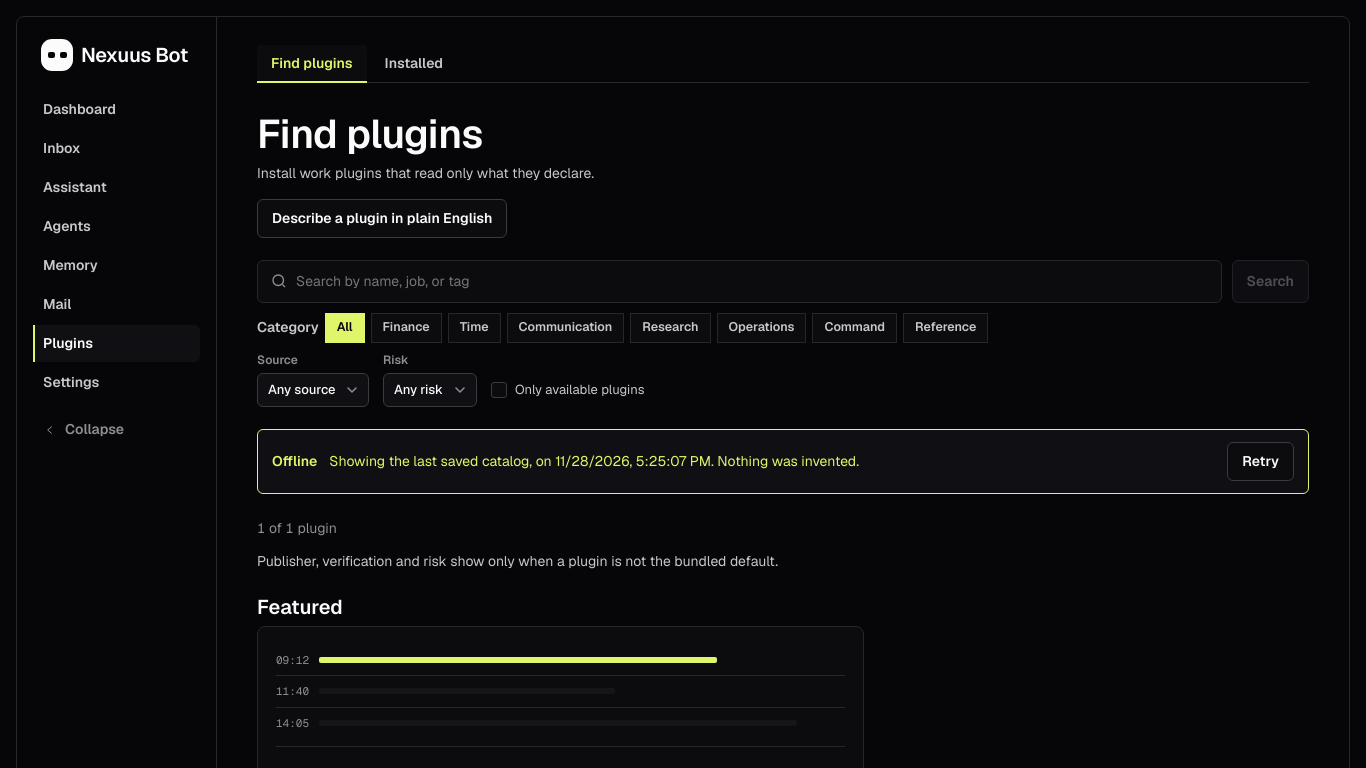
Test case: the marketplace catalog surface › serves the last successful catalog offline, with a banner and a retry
The width and height of the screenshot is (1366, 768).
Expected: the text "Offline" is shown, [272,451,317,472]
Expected: the text "Showing the last saved catalog" is shown, [329,452,536,470]
Click the button "Retry" at coordinates (1261, 461), box [1227,442,1294,481]
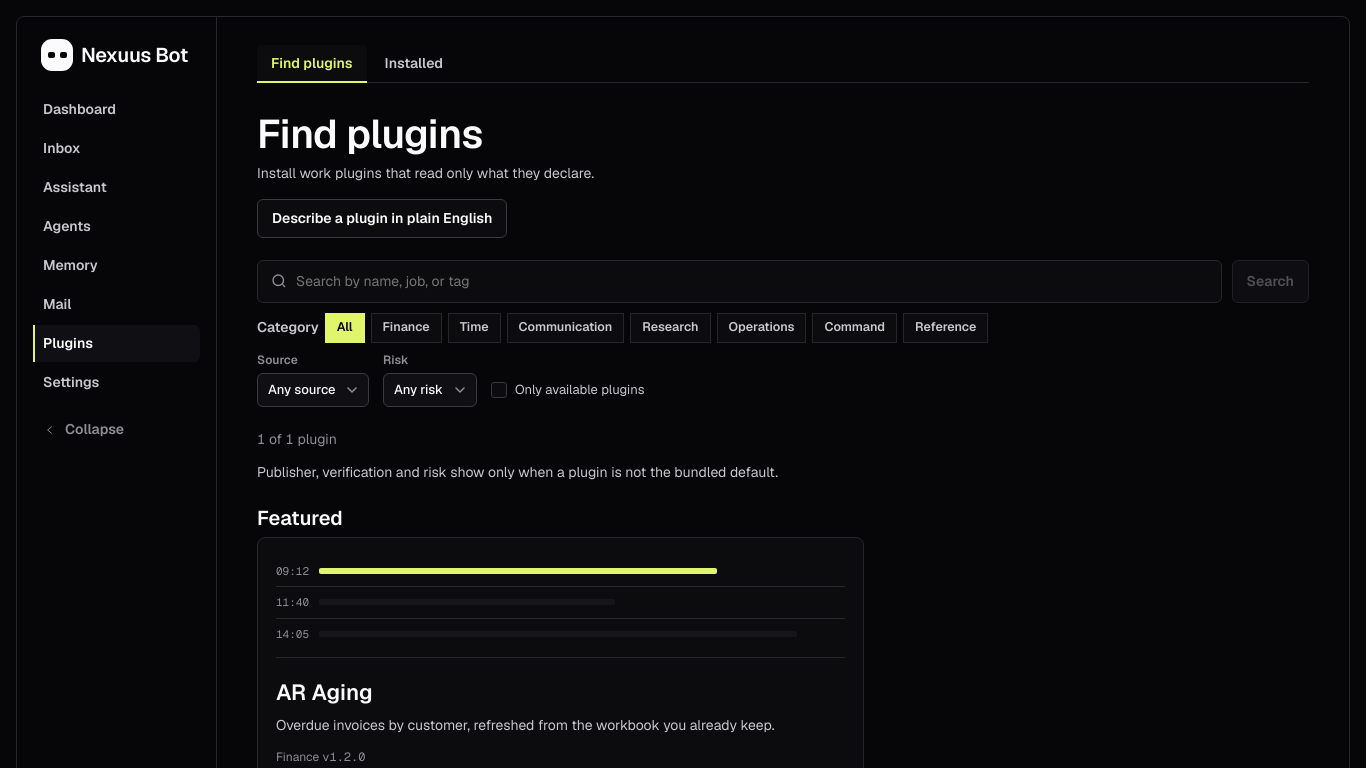
Expected: the text "AR Aging" is shown, [276,678,373,706]
Result: the message is gone
